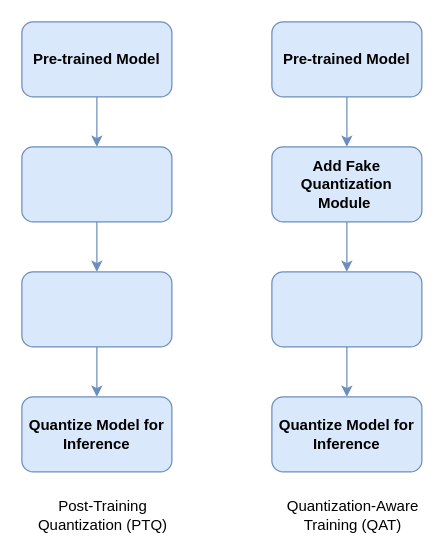
The diagram is 444 pixels wide and 556 high, and some of its shapes have lost their labels. Each missing label, with the centre of its shape:
Collect Statistics: (x=96, y=184)
Compute Scales: (x=96, y=309)
Train the model: (x=346, y=309)
